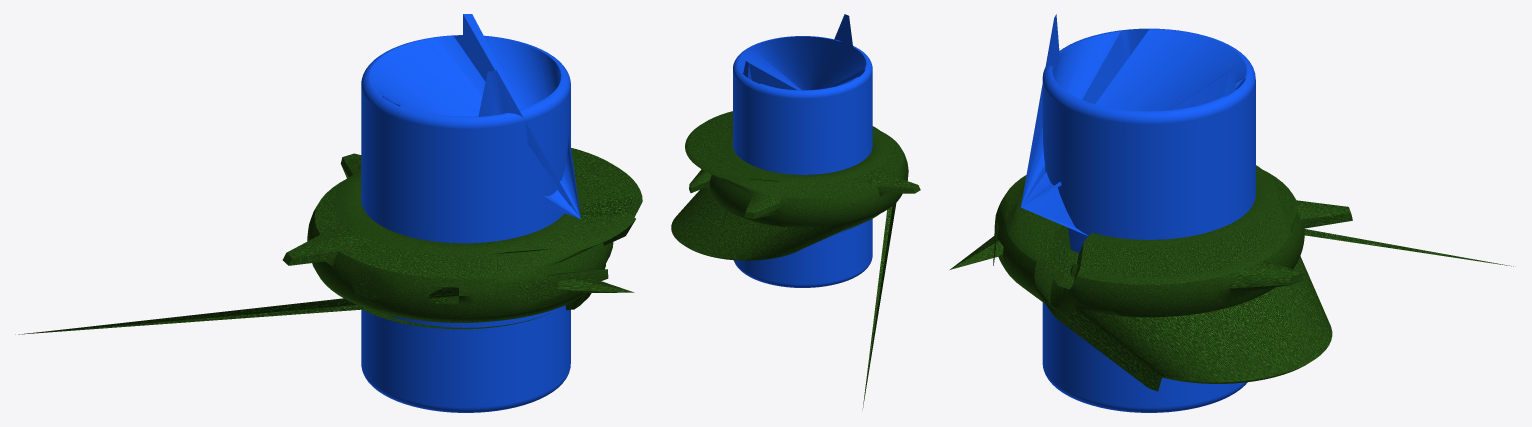
File: asset.glb
The picture shows the model from 3 angles, left to right: view 1: azimuth 30°, elevation 25°; view 2: azimuth 150°, elevation 25°; view 3: azimuth 270°, elevation 25°; orthographic projection. The views are drawn at different scales.
Visible parts, largest first — view 1: Cylinder - baked, Torus - baked; view 2: Cylinder - baked, Torus - baked; view 3: Cylinder - baked, Torus - baked.
Part boxes in pixels (box(x1,y1,x2,y2)): Cylinder - baked: box(361, 14, 580, 412); Torus - baked: box(15, 148, 642, 334); Cylinder - baked: box(733, 14, 872, 287); Torus - baked: box(671, 111, 920, 409); Cylinder - baked: box(1021, 14, 1255, 412); Torus - baked: box(950, 165, 1513, 391).
Size of the model in its own units: 0.2046 by 0.1686 by 0.2314.
Materials: 2 (1 with a texture image).
